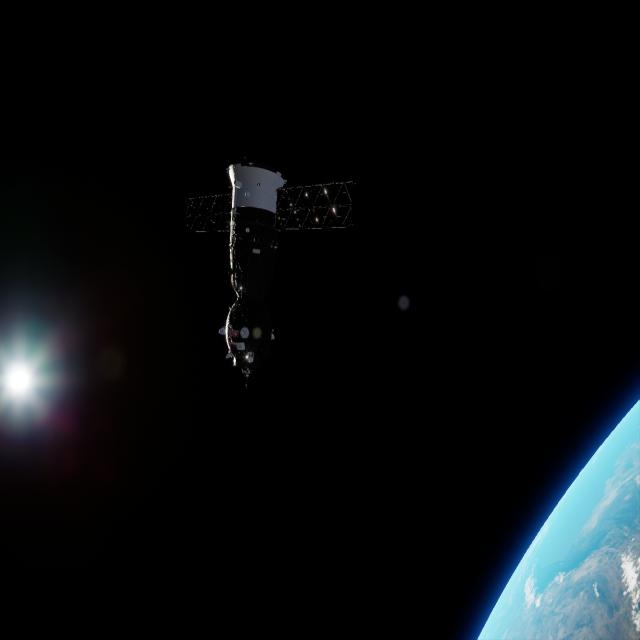Satellites revolving around earth: (182, 157, 357, 386), (476, 397, 638, 638)
